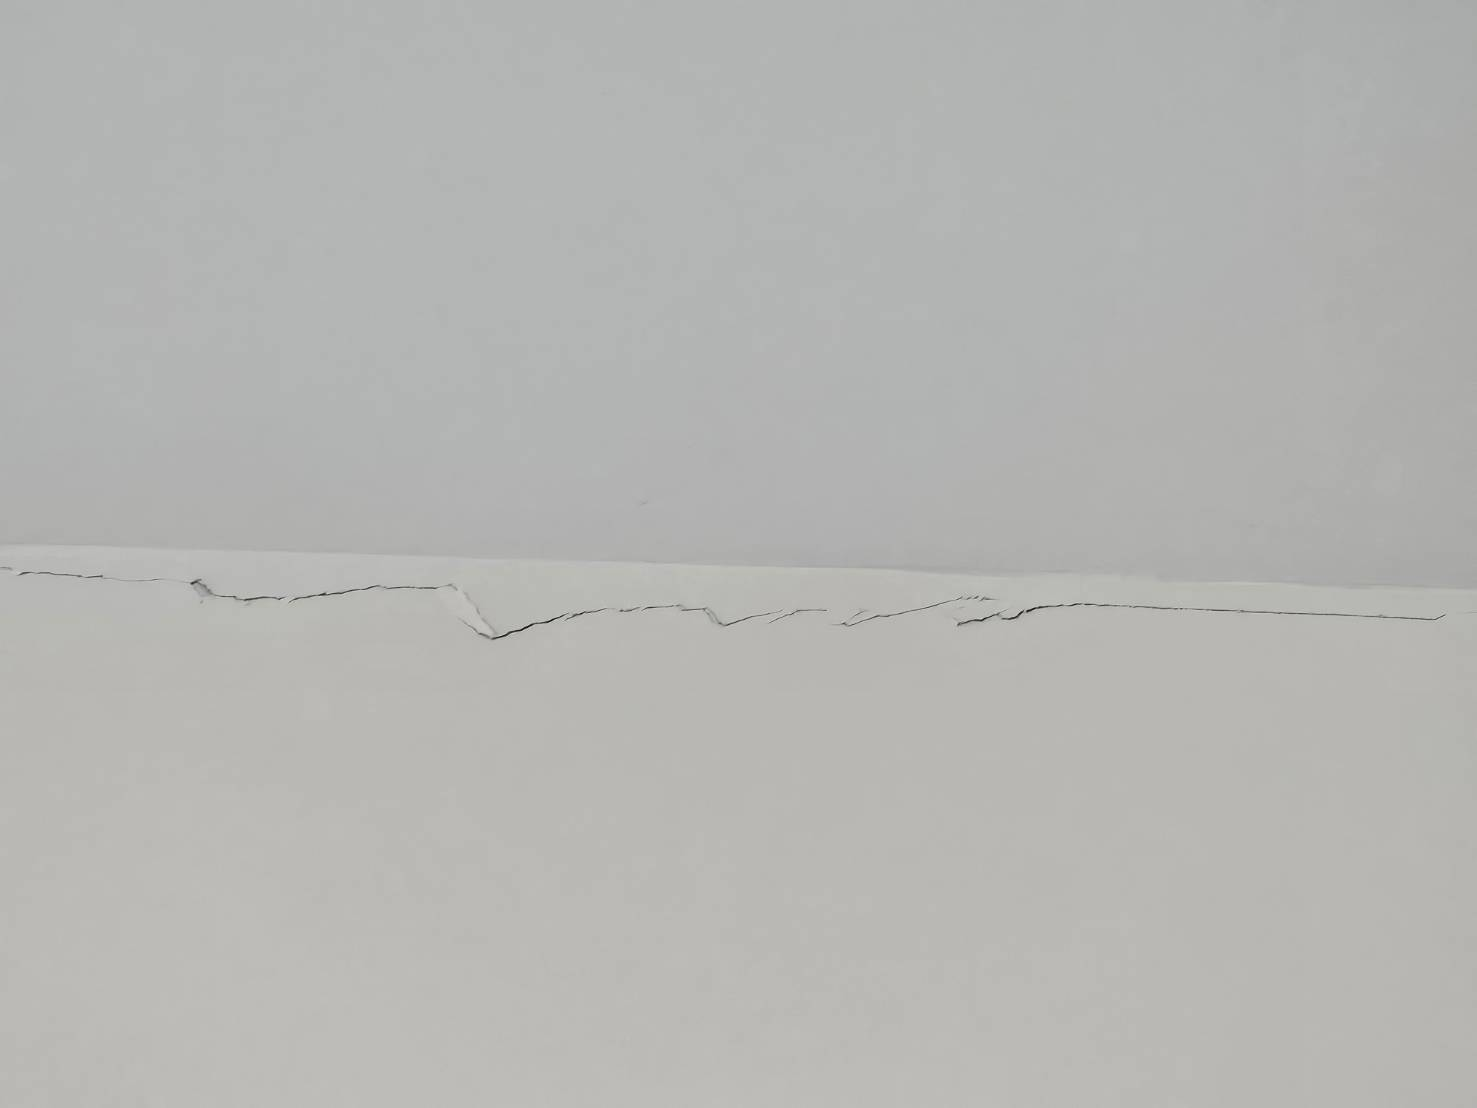Low: (1, 553, 1460, 662)
